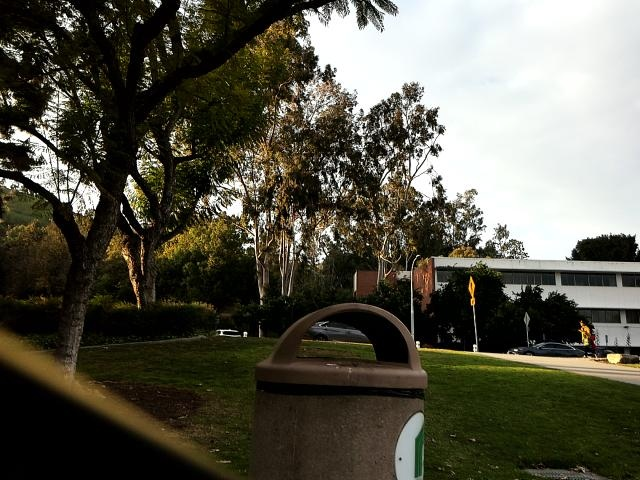trashcan: (246, 284, 431, 480)
